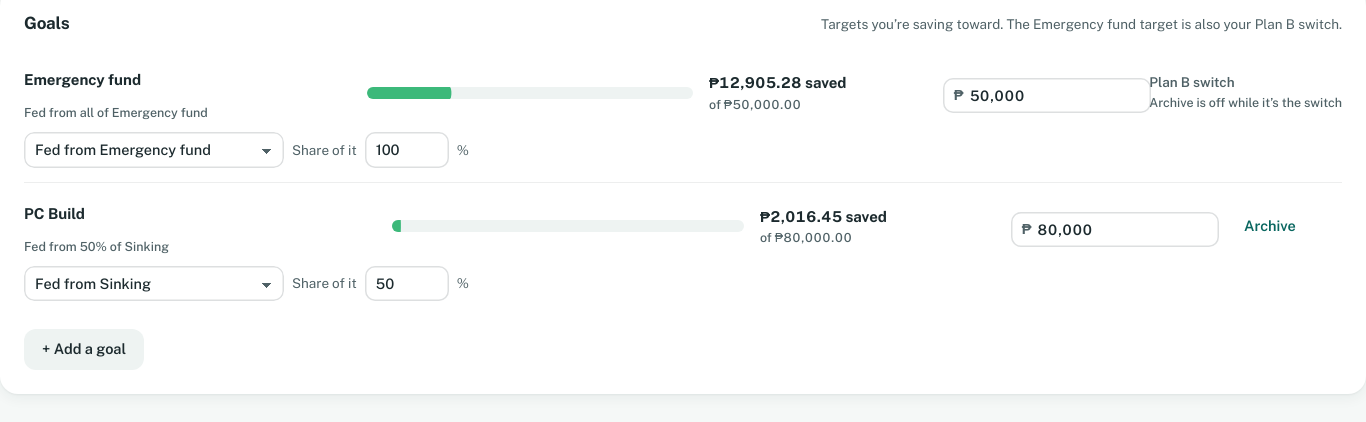
Scenario: GoalsPanel › a bad target is explained and nothing is sent
Replace the text in the field named "PC Build target" in the row of "Fed from 50% of Sinking" with "abc". click: (1123, 229)
box: top-left (1037, 212), bottom-right (1208, 247)
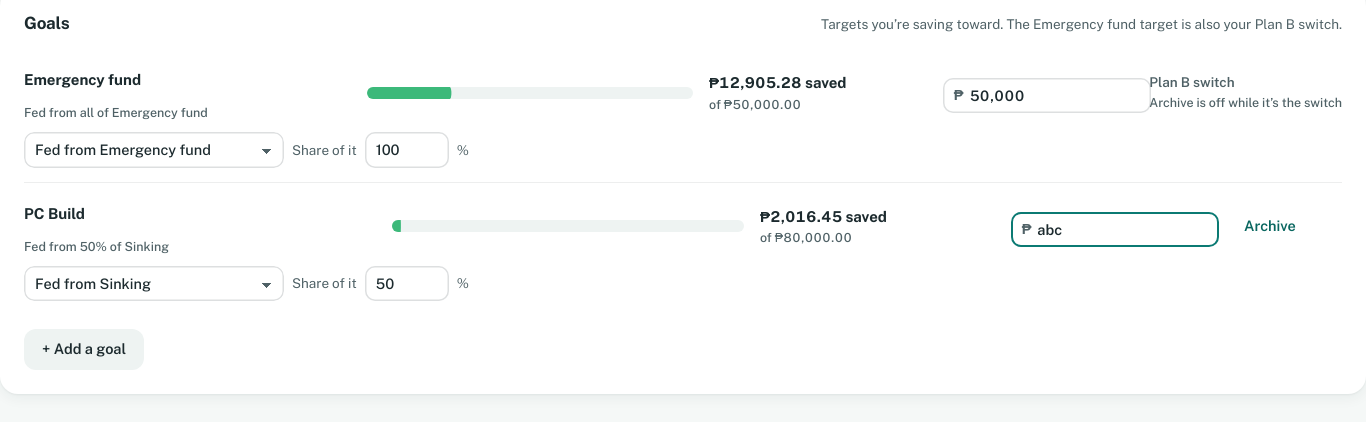
Press Tab
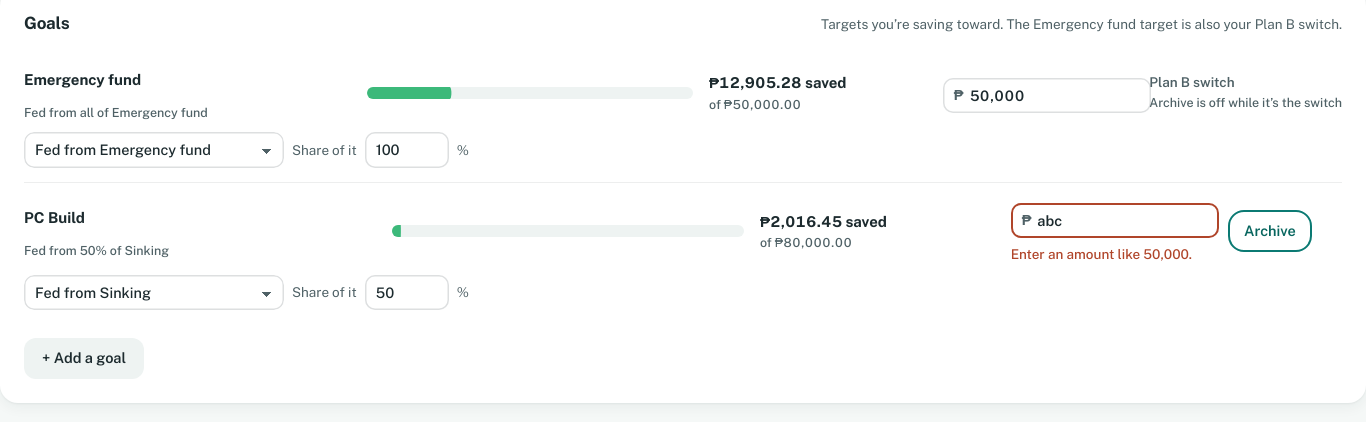
Expected: the text "Enter an amount like 50,000." is shown, top-left (1011, 244), bottom-right (1219, 265)
